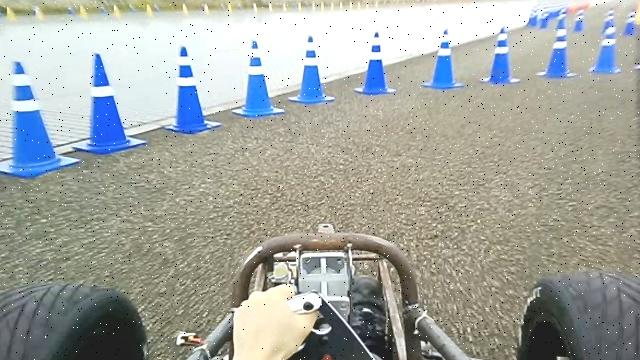blue cone: (0, 60, 80, 178), (71, 52, 147, 154), (163, 45, 221, 134), (231, 39, 285, 117), (288, 34, 335, 104), (354, 30, 396, 95), (421, 28, 464, 89), (479, 25, 520, 84), (541, 24, 575, 78)
